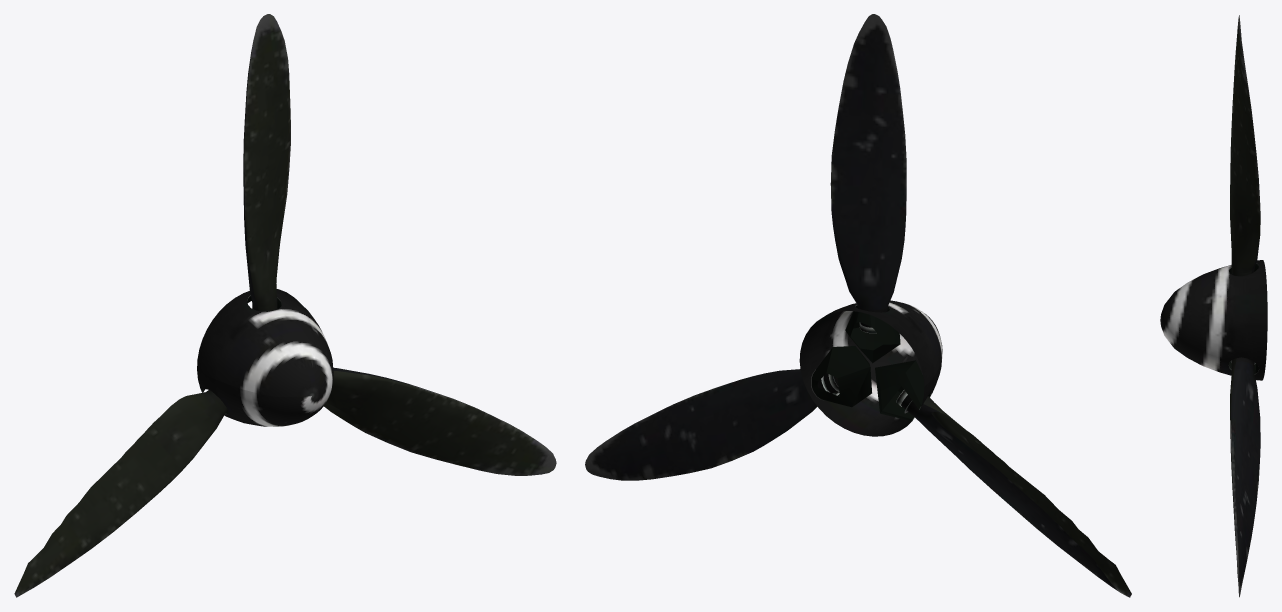
File: helice.obj
3 views of the same model, side by side, from view 1: azimuth 30°, elevation 25°; view 2: azimuth 150°, elevation 25°; view 3: azimuth 270°, elevation 25° (orthographic). The views are drawn at different scales.
Parts seen in each view (by area): view 1: vehicle#fuse_12; view 2: vehicle#fuse_12; view 3: vehicle#fuse_12.
Boxes of the visible parts, x1,y1,x2,y2 form: vehicle#fuse_12: [14, 14, 556, 597]; vehicle#fuse_12: [585, 14, 1131, 597]; vehicle#fuse_12: [1160, 15, 1267, 597].
Size of the model in its own units: 2.63 by 2.44 by 0.5129.
Materials: 1 (1 with a texture image).
